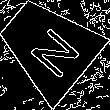N_NW: (16, 14, 79, 77)
